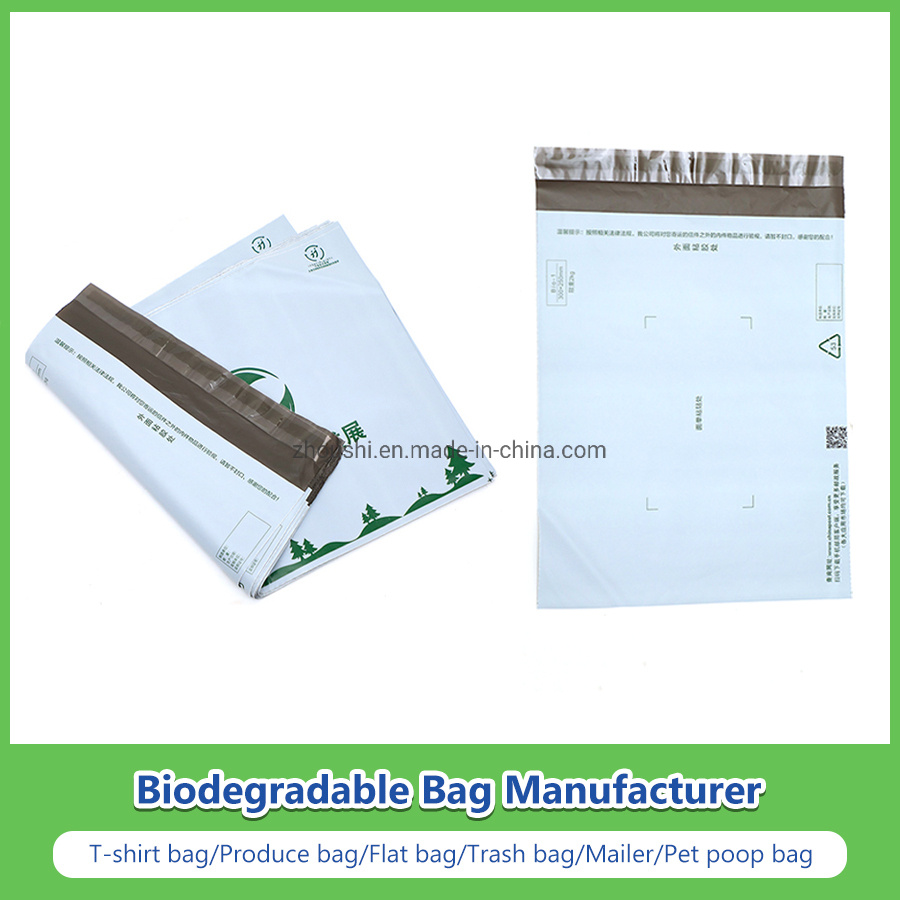塑料袋: (27, 217, 493, 598), (534, 147, 850, 608)
